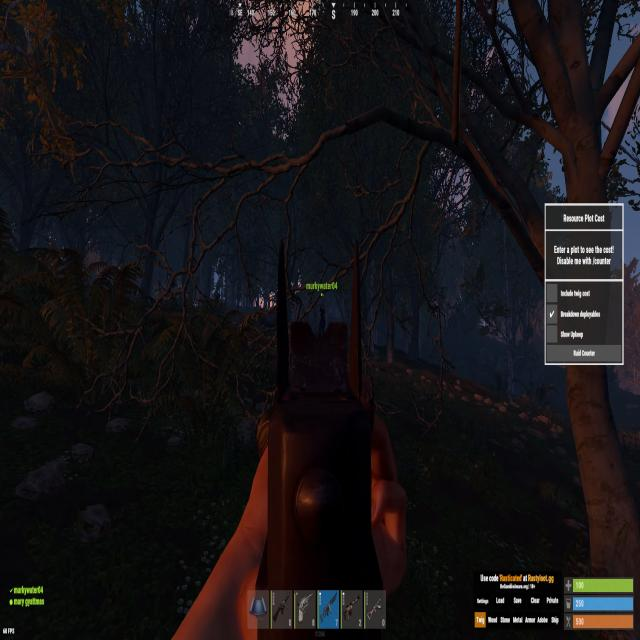Player: (318, 302, 327, 339)
